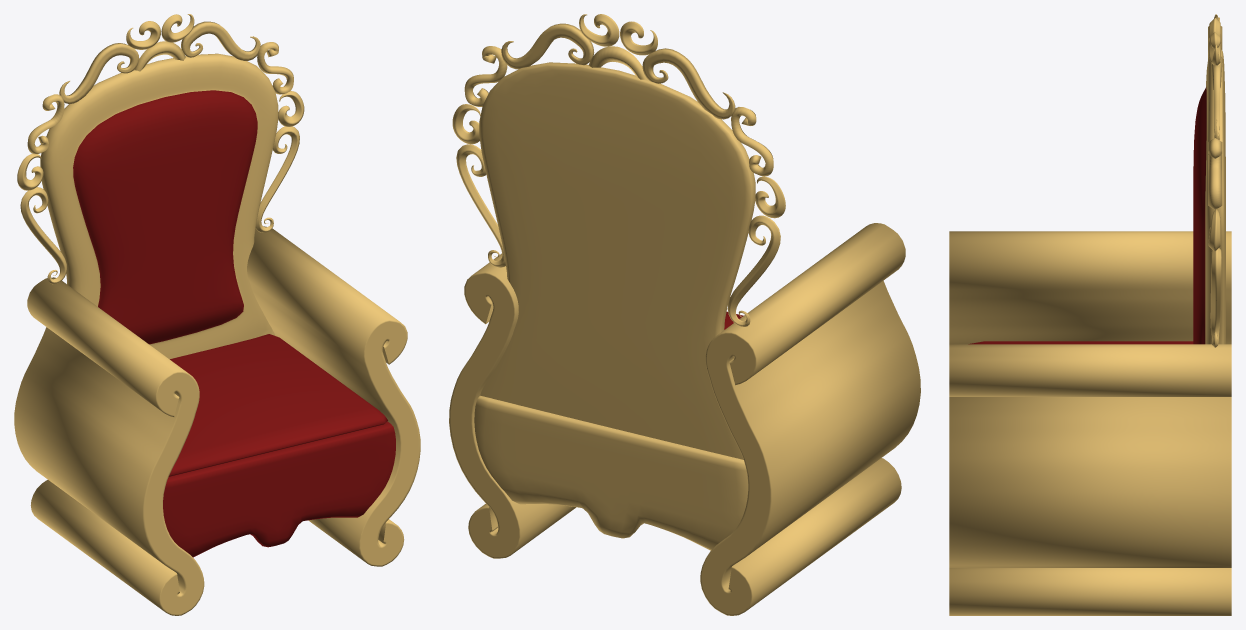
File: Throne.fbx
3 views of the same model, side by side, from view 1: azimuth 30°, elevation 25°; view 2: azimuth 150°, elevation 25°; view 3: azimuth 270°, elevation 25° (orthographic). The views are drawn at different scales.
Visible parts, largest first — view 1: Chair legs, Chair legs.002, Cube.009, Cube.010, BezierCurve.004, BezierCurve.007, BezierCurve.003, BezierCurve.008, BezierCurve.006, BezierCurve.005; view 2: Chair legs.002, Chair legs, Cube.009, BezierCurve.004, BezierCurve.007, BezierCurve.003, BezierCurve.006, BezierCurve.008, BezierCurve.005; view 3: Chair legs, Chair legs.002, BezierCurve.003, BezierCurve.007, Cube.010, BezierCurve.006, BezierCurve.004, BezierCurve.008.
Part boxes in pixels (bbox=[...]): Chair legs: bbox=[14, 226, 420, 615]; Chair legs.002: bbox=[40, 53, 278, 359]; Cube.009: bbox=[163, 421, 395, 557]; Cube.010: bbox=[168, 334, 387, 476]; BezierCurve.004: bbox=[59, 21, 260, 104]; BezierCurve.007: bbox=[20, 126, 299, 284]; BezierCurve.003: bbox=[27, 42, 293, 154]; BezierCurve.008: bbox=[17, 91, 304, 190]; BezierCurve.006: bbox=[126, 14, 194, 49]; BezierCurve.005: bbox=[134, 41, 185, 71]; Chair legs.002: bbox=[479, 62, 755, 459]; Chair legs: bbox=[449, 223, 920, 615]; Cube.009: bbox=[474, 395, 748, 550]; BezierCurve.004: bbox=[501, 23, 735, 119]; BezierCurve.007: bbox=[456, 144, 780, 326]; BezierCurve.003: bbox=[464, 46, 773, 176]; BezierCurve.006: bbox=[579, 14, 657, 55]; BezierCurve.008: bbox=[452, 104, 785, 218]; BezierCurve.005: bbox=[588, 46, 647, 79]; Chair legs: bbox=[949, 231, 1231, 615]; Chair legs.002: bbox=[1193, 49, 1225, 344]; BezierCurve.003: bbox=[1208, 26, 1222, 209]; BezierCurve.007: bbox=[1210, 248, 1221, 347]; Cube.010: bbox=[968, 341, 1193, 344]; BezierCurve.006: bbox=[1208, 14, 1221, 65]; BezierCurve.004: bbox=[1214, 17, 1219, 139]; BezierCurve.008: bbox=[1208, 209, 1220, 251].
Bounding box in the file's own units: 134 × 217 × 104.
